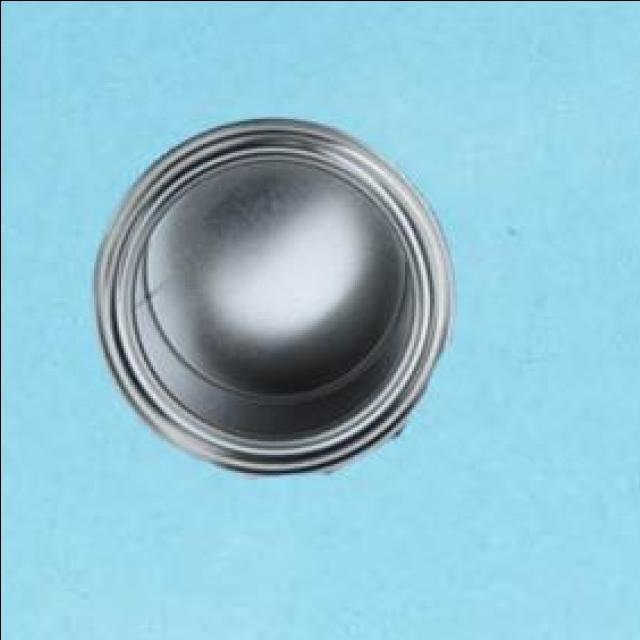logam: (90, 115, 448, 473)
